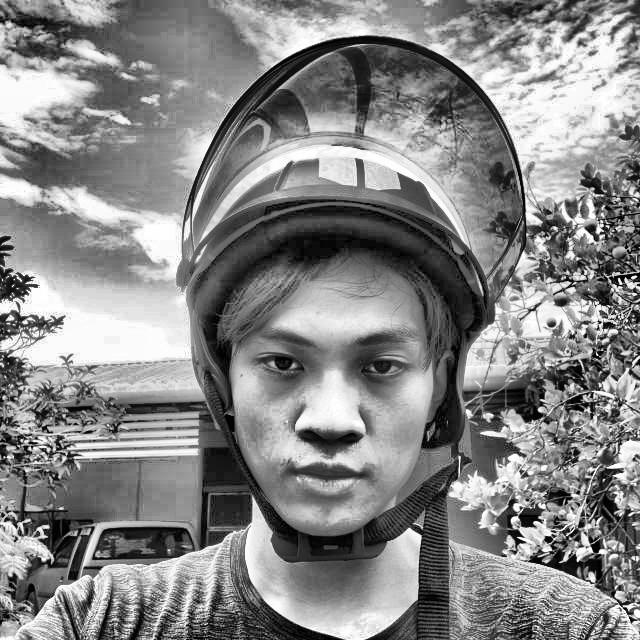Helmet: (169, 25, 533, 571)
